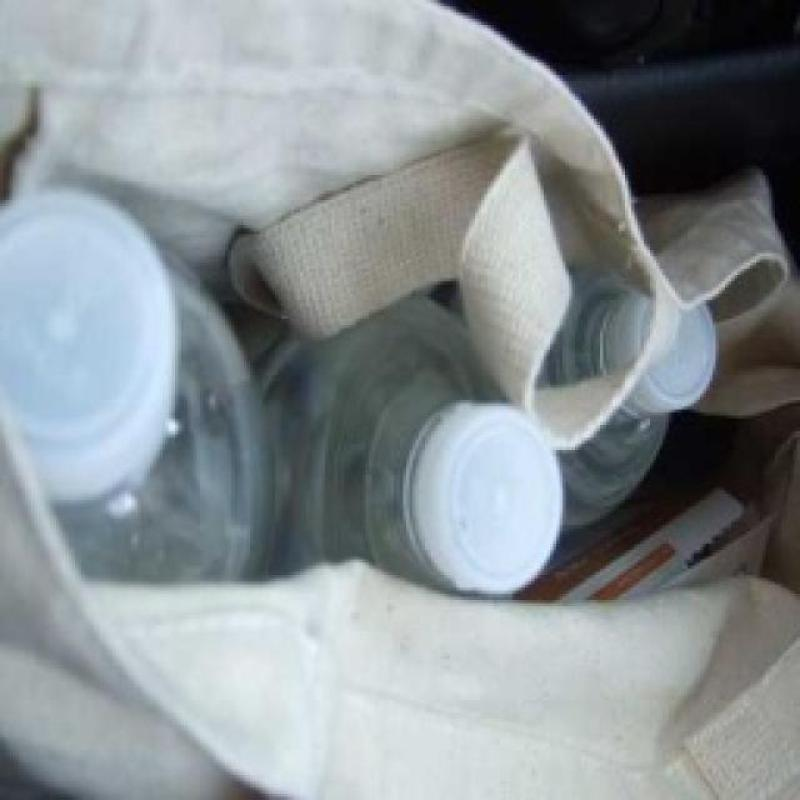botella: (0, 189, 272, 605), (242, 294, 573, 612), (531, 266, 719, 528)
